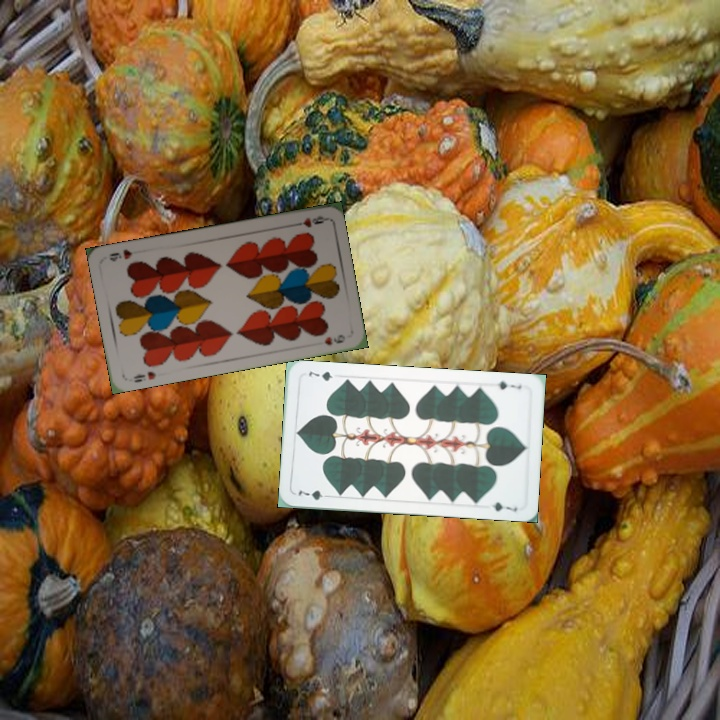G7: (294, 486, 334, 503), (494, 377, 524, 392)
H9: (288, 212, 328, 230), (129, 367, 159, 385)
